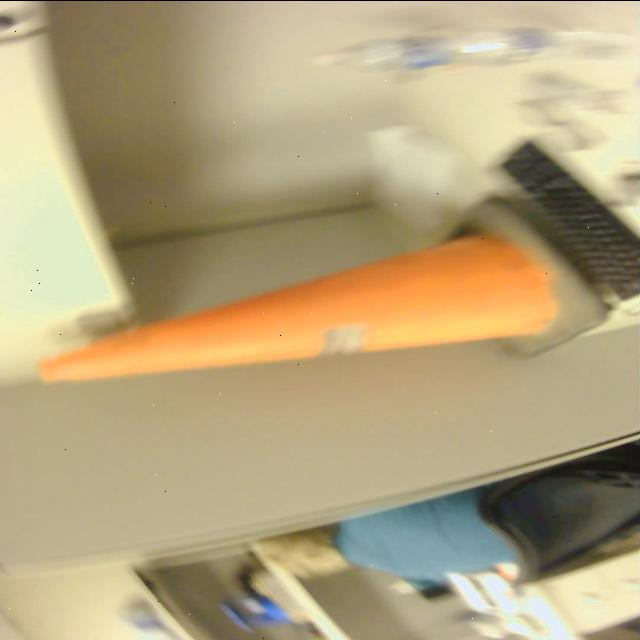traffic cone: (34, 192, 616, 388)
